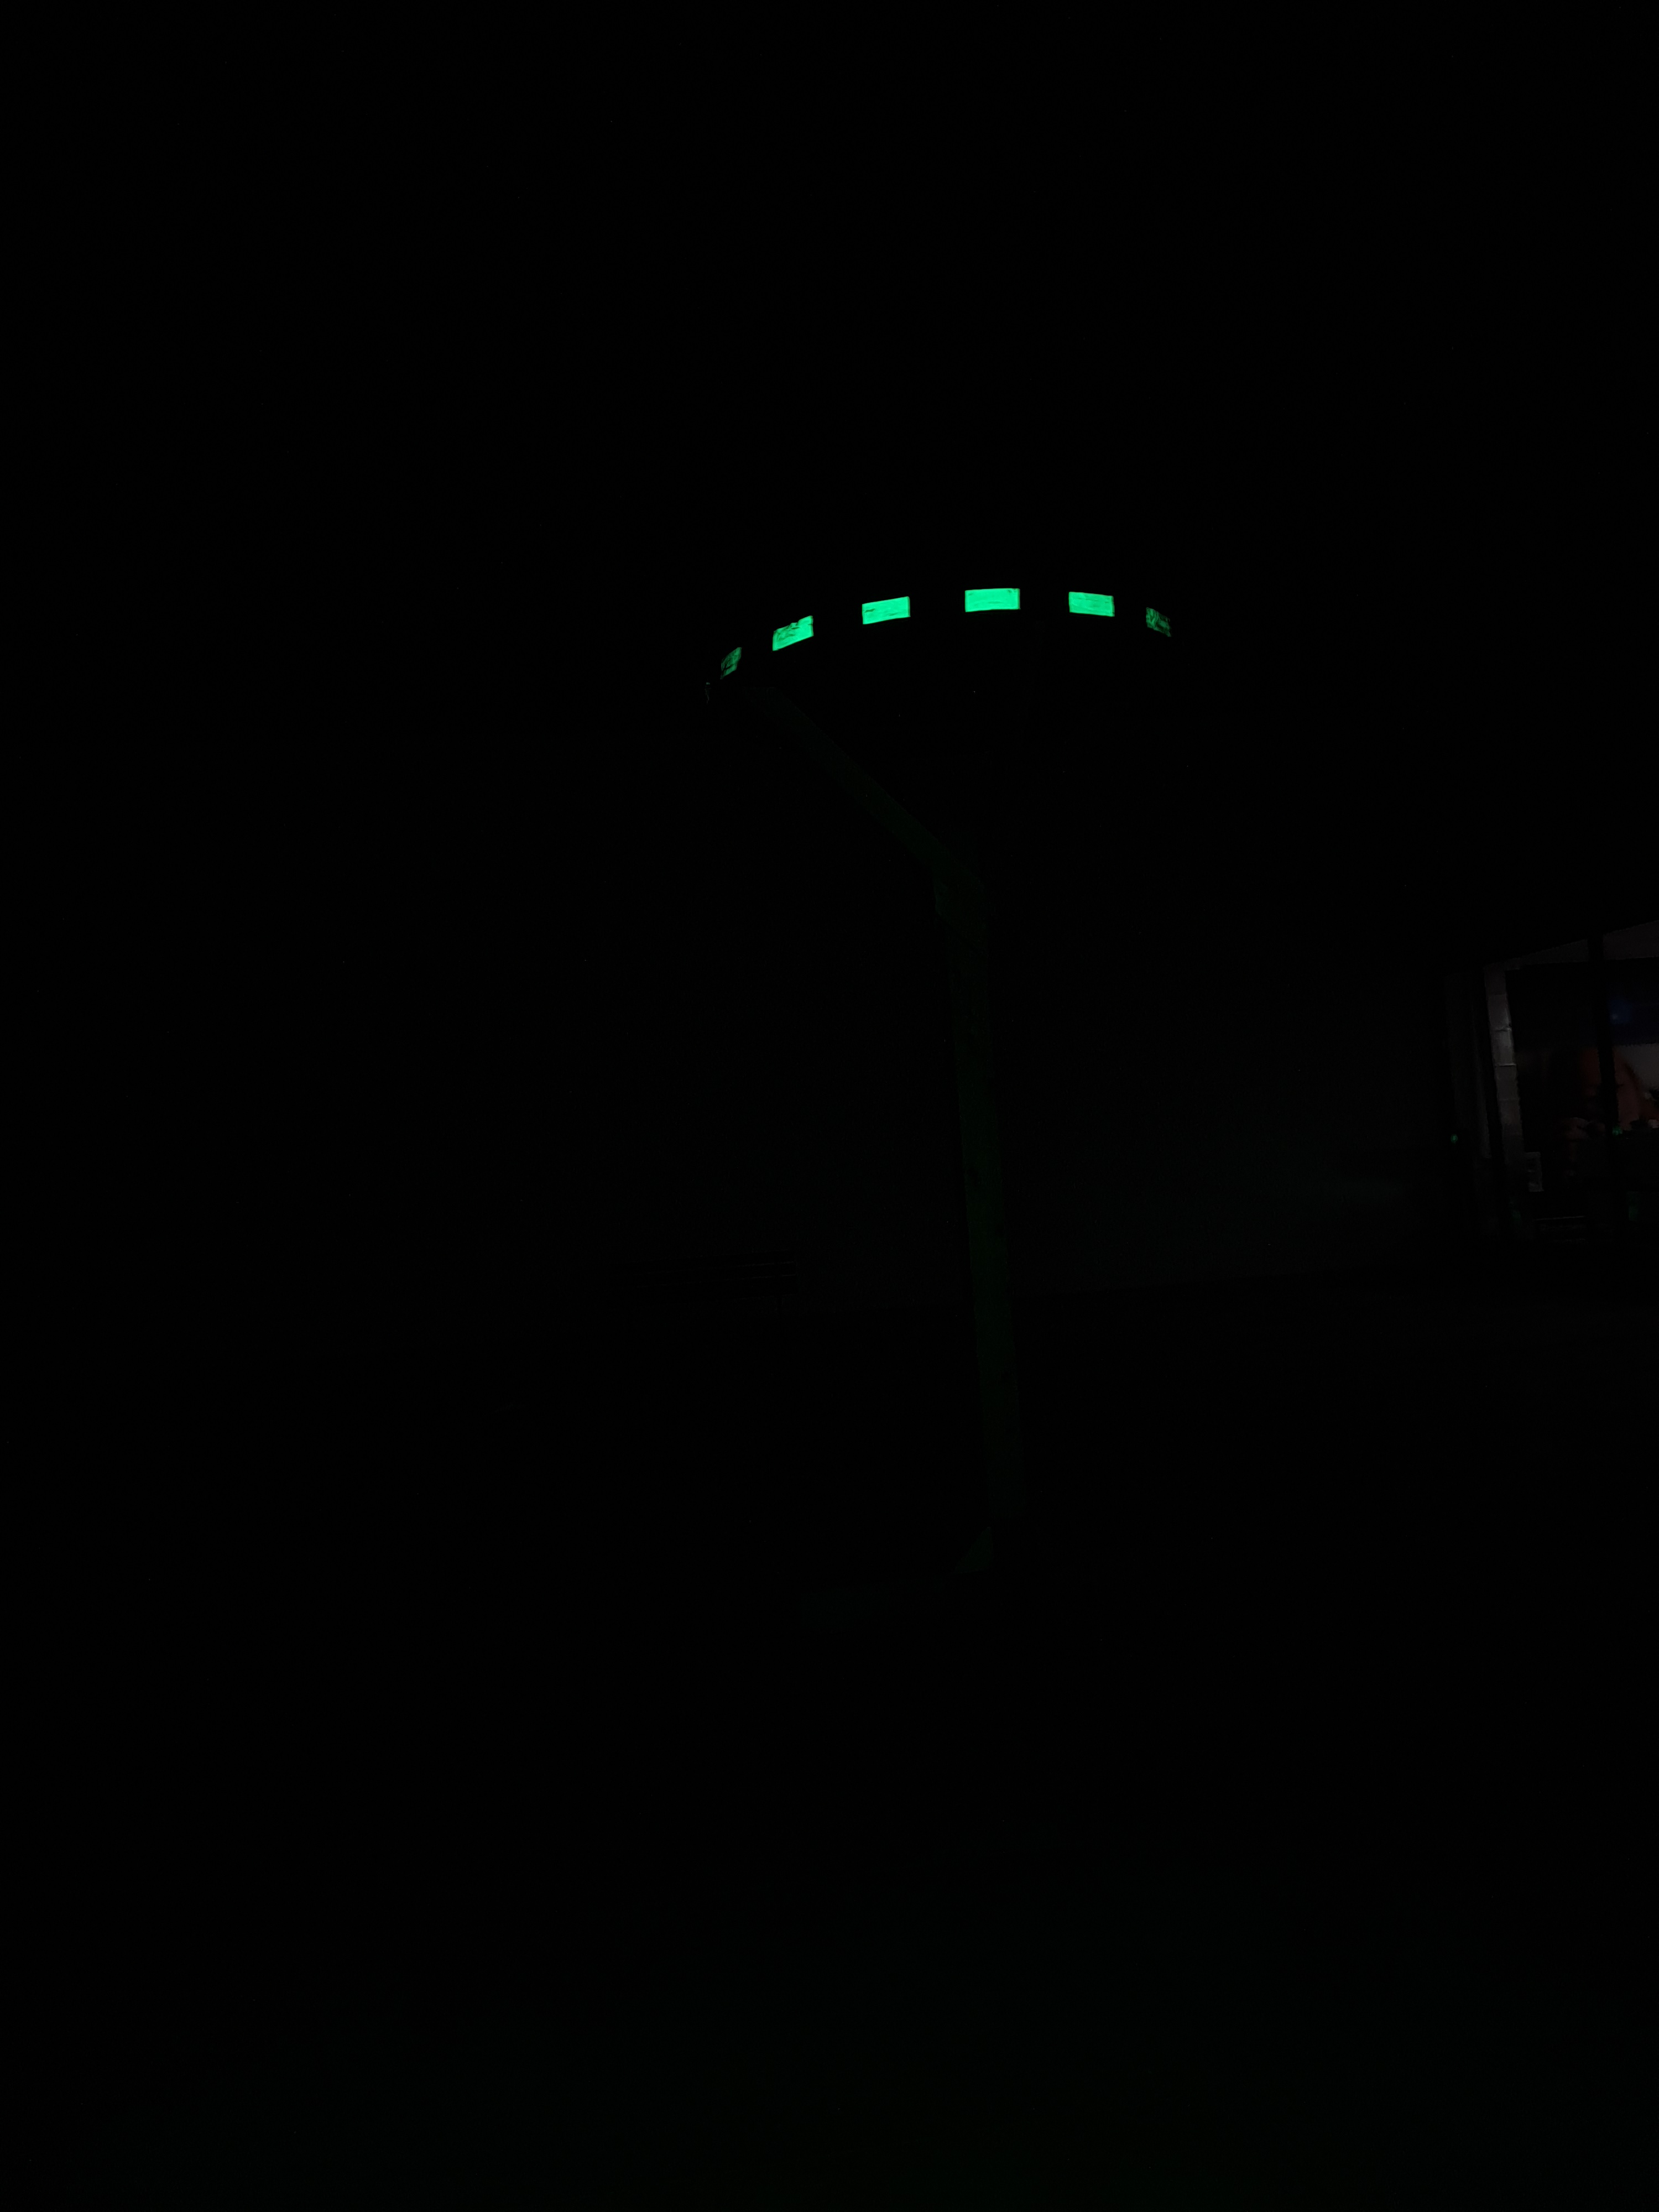hoop: (687, 556, 1194, 709)
